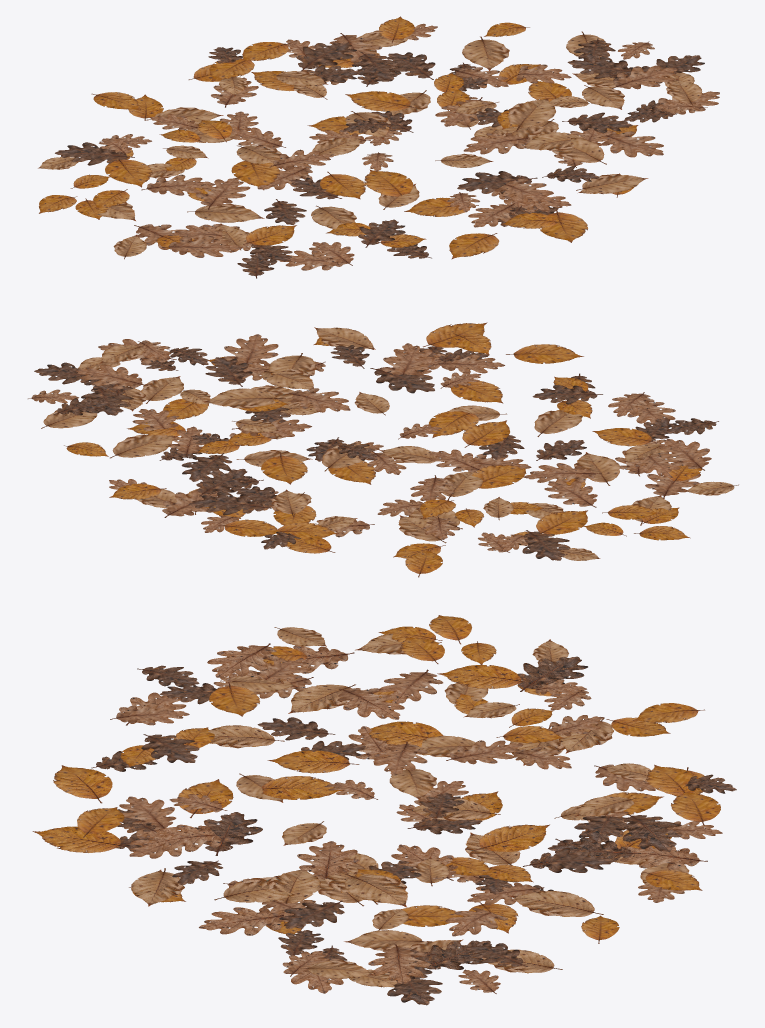
File: Mixed_LeafLitter_Patch_01_LOD0.fbx
3 views of the same model, one above another, from view 1: azimuth 30°, elevation 25°; view 2: azimuth 150°, elevation 25°; view 3: azimuth 270°, elevation 25° (orthographic). The views are drawn at different scales.
Parts seen in each view (by area): view 1: Mixed_LeafLitter_Patch_01_LOD0_Mesh; view 2: Mixed_LeafLitter_Patch_01_LOD0_Mesh; view 3: Mixed_LeafLitter_Patch_01_LOD0_Mesh.
Part boxes in pixels (x1=…): Mixed_LeafLitter_Patch_01_LOD0_Mesh: x1=38, y1=16, x2=719, y2=278; Mixed_LeafLitter_Patch_01_LOD0_Mesh: x1=28, y1=322, x2=738, y2=577; Mixed_LeafLitter_Patch_01_LOD0_Mesh: x1=32, y1=615, x2=736, y2=1005.
Bounding box in the file's own units: 148 × 1.97 × 113.
Materials: 1 (1 with a texture image).
